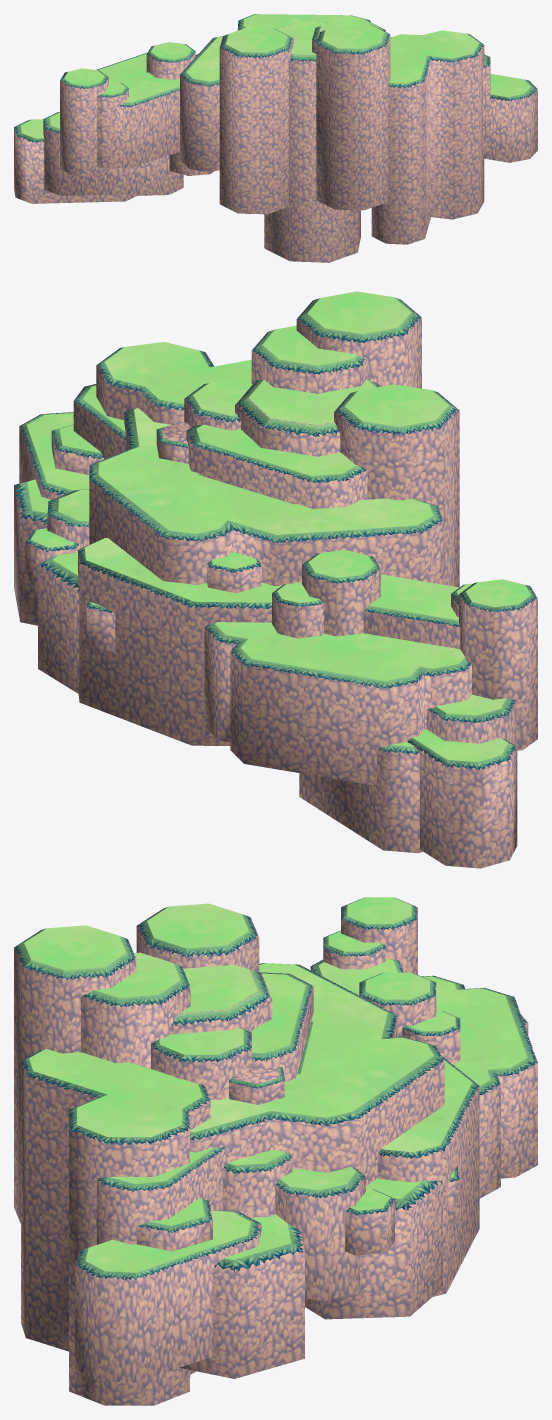
Rendered from Rock_Module5.fbx.
3 renders of one model, top to bottom at view 1: azimuth 30°, elevation 25°; view 2: azimuth 150°, elevation 25°; view 3: azimuth 270°, elevation 25°, orthographic. The views are drawn at different scales.
Visible parts, largest first — view 1: Module5_Side, Module5_upper, Module5_Edge; view 2: Module5_Side, Module5_upper, Module5_Edge; view 3: Module5_Side, Module5_upper, Module5_Edge.
Boxes of the visible parts, <box> form: Module5_Side: <box>14,20,537,262</box>; Module5_upper: <box>20,14,530,138</box>; Module5_Edge: <box>14,14,536,142</box>; Module5_Side: <box>14,299,537,868</box>; Module5_upper: <box>27,291,530,761</box>; Module5_Edge: <box>14,297,536,769</box>; Module5_Side: <box>14,906,537,1405</box>; Module5_upper: <box>24,897,527,1272</box>; Module5_Edge: <box>14,897,537,1279</box>.
Bounding box in the file's own units: 9028 × 4832 × 5993.
Materials: 3 (3 with a texture image).
